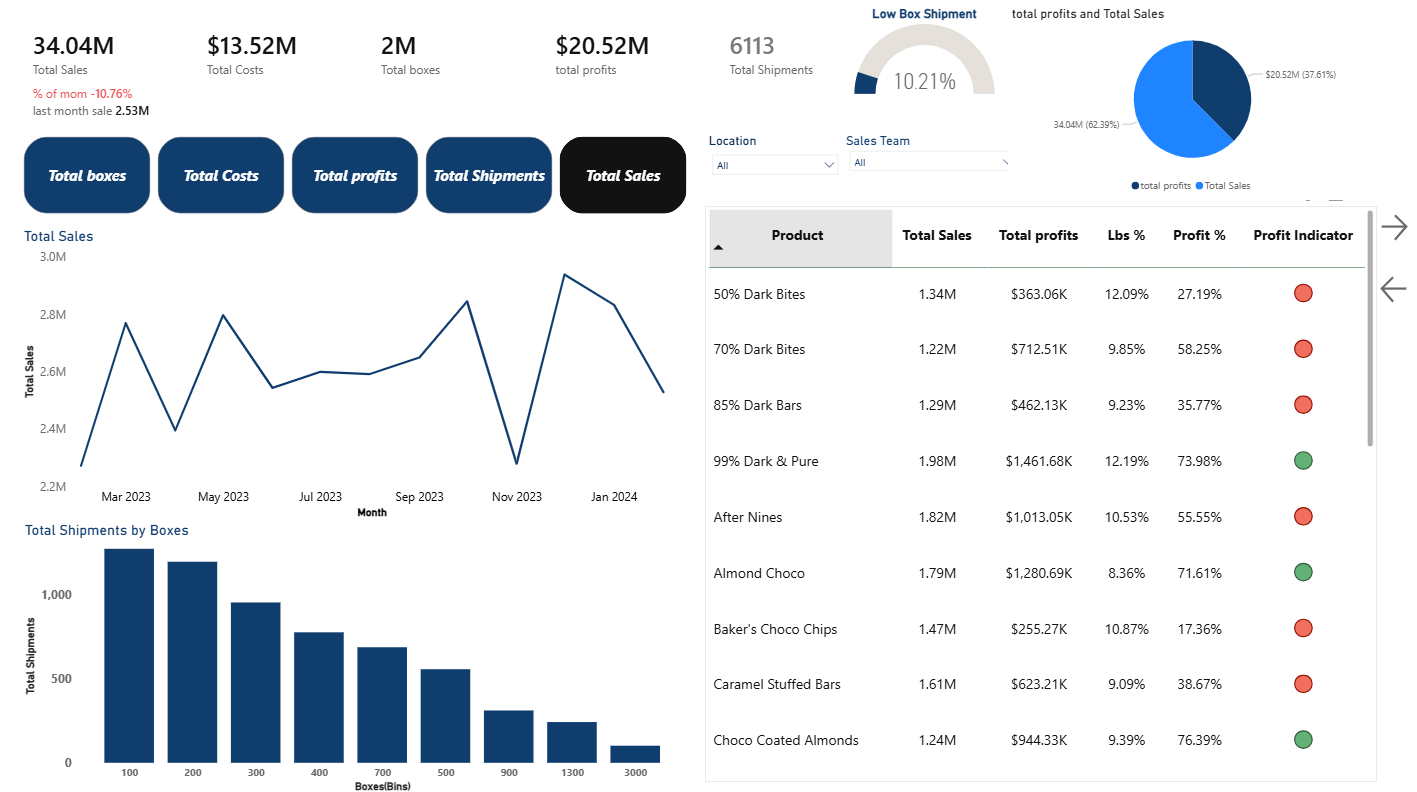

What the dashboard file says about the page in this screenshot:
{"tool":"powerbi","page":{"name":"Page 3","canvas":[1920,1080],"ordinal":2},"visuals":[{"type":"cardVisual","fields":{"Data":["Measures (2).Total Sales","Measures (2).Total Costs","Measures (2).Total boxes","Measures (2).total profits","Measures (2).Total Shipments"]},"box":[40.2,19.4,1176.1,211.9],"z":0},{"type":"slicer","title":"Sales Team","fields":{"Values":["people.Team"]},"box":[1149.9,189.4,235.1,98.1],"z":1000},{"type":"lineChart","fields":{"Y":["Measures (2).Total Sales"],"Category":["calendar.Start of Month"]},"box":[39.8,316.9,900.3,395],"z":2000},{"type":"advancedSlicerVisual","fields":{"Values":["Measure_selector.Measure_selector"]},"box":[39.8,189.9,900.3,113.3],"z":3000},{"type":"columnChart","title":"Total Shipments by Boxes","fields":{"Y":["Measures (2).Total Shipments"],"Category":["shipments.Boxes(Bins)"]},"box":[41.3,712,898.8,367.5],"z":4000},{"type":"gauge","title":"Low Box Shipment","fields":{"Y":["Measures (2).lbs percentage"]},"box":[1143.1,18.8,224.3,118.2],"z":5000},{"type":"tableEx","title":"Product Details","fields":{"Values":["products.Product","Measures (2).Total Sales","Measures (2).total profits","Measures (2).lbs percentage","Measures (2).Profit percentage","Measures (2).Profit Indicator"]},"box":[960.4,287.5,902.7,773.7],"z":7000},{"type":"actionButton","box":[1863.1,287.5,45.7,57.8],"z":8000},{"type":"actionButton","box":[1863.1,370.7,45.7,57.8],"z":9000},{"type":"slicer","title":"Location","fields":{"Values":["locations.Geo"]},"box":[960.4,189.4,189.4,90],"z":9001},{"type":"pieChart","fields":{"Y":["Measures (2).total profits","Measures (2).Total Sales"]},"box":[1367.5,0,495.7,260.6],"z":9002}]}

Visuals, with their boxes in screenshot pixels (x1, y1, x2, y2), scaled from the page's 1920x1080 canvas onto the 1417x792 screenshot:
cardVisual - Measures (2).Total Sales x Measures (2).Total Costs: left=30, top=14, right=898, bottom=170
"Sales Team" slicer: left=849, top=139, right=1022, bottom=211
lineChart - Measures (2).Total Sales x calendar.Start of Month: left=29, top=232, right=694, bottom=522
advancedSlicerVisual - Measure_selector.Measure_selector: left=29, top=139, right=694, bottom=222
"Total Shipments by Boxes" columnChart: left=30, top=522, right=694, bottom=791
"Low Box Shipment" gauge: left=844, top=14, right=1009, bottom=100
"Product Details" tableEx: left=709, top=211, right=1375, bottom=778
actionButton: left=1375, top=211, right=1409, bottom=253
actionButton: left=1375, top=272, right=1409, bottom=314
"Location" slicer: left=709, top=139, right=849, bottom=205
pieChart - Measures (2).total profits x Measures (2).Total Sales: left=1009, top=0, right=1375, bottom=191
